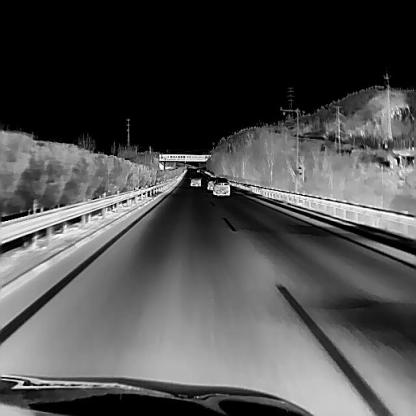car: (212, 176, 229, 195), (204, 174, 218, 188), (189, 172, 201, 184)
